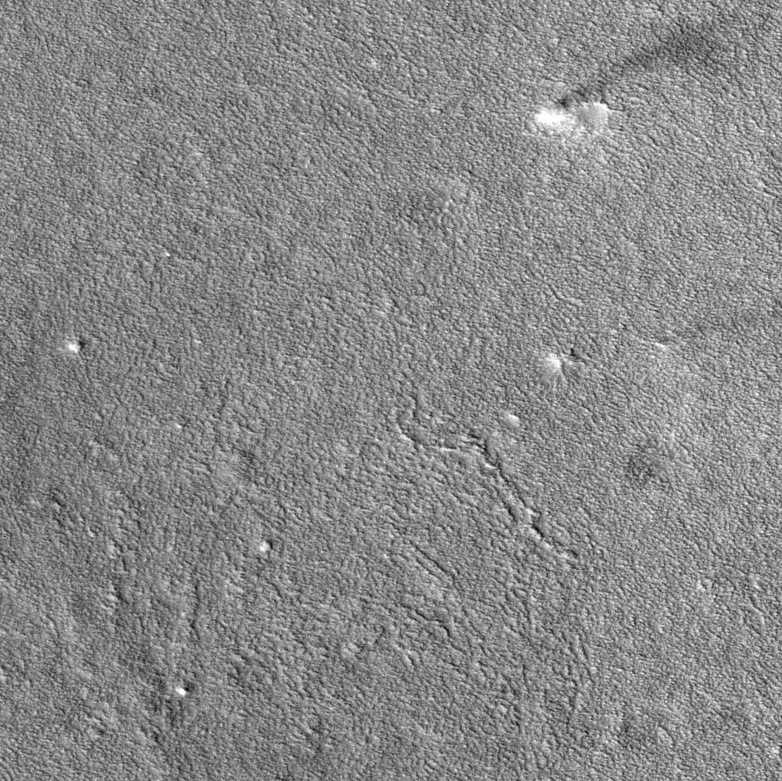dust_devil: (533, 20, 724, 127)
